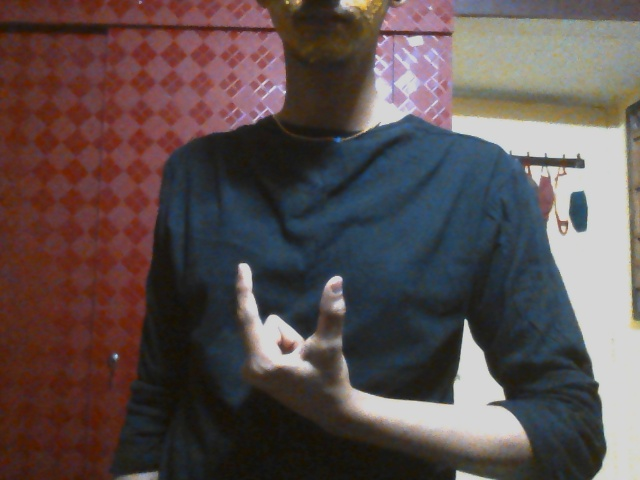U: (227, 260, 355, 420)
